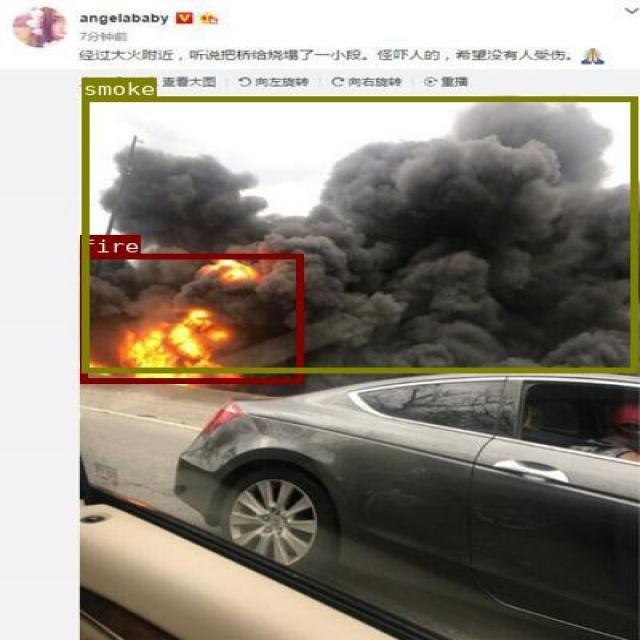fire: (79, 254, 302, 383)
smoke: (81, 96, 636, 372)
